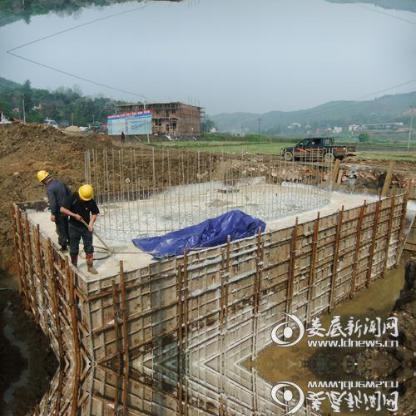Safety Helmet: (71, 179, 100, 205), (35, 168, 58, 187)
